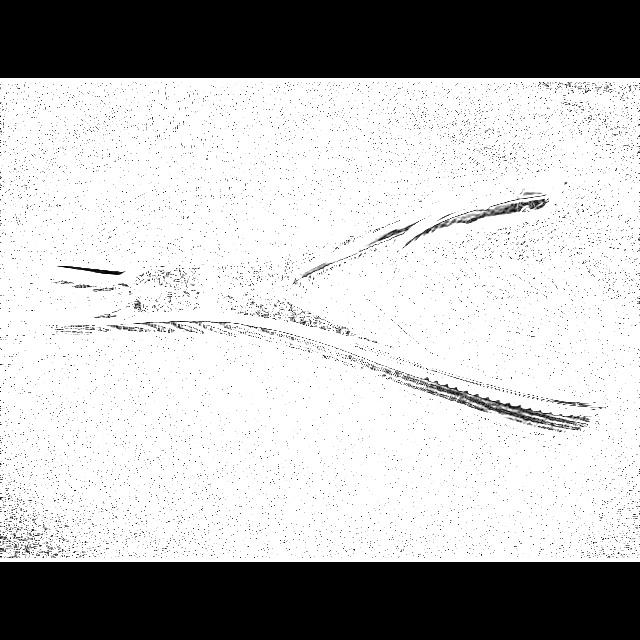gubia: (37, 179, 615, 425)
